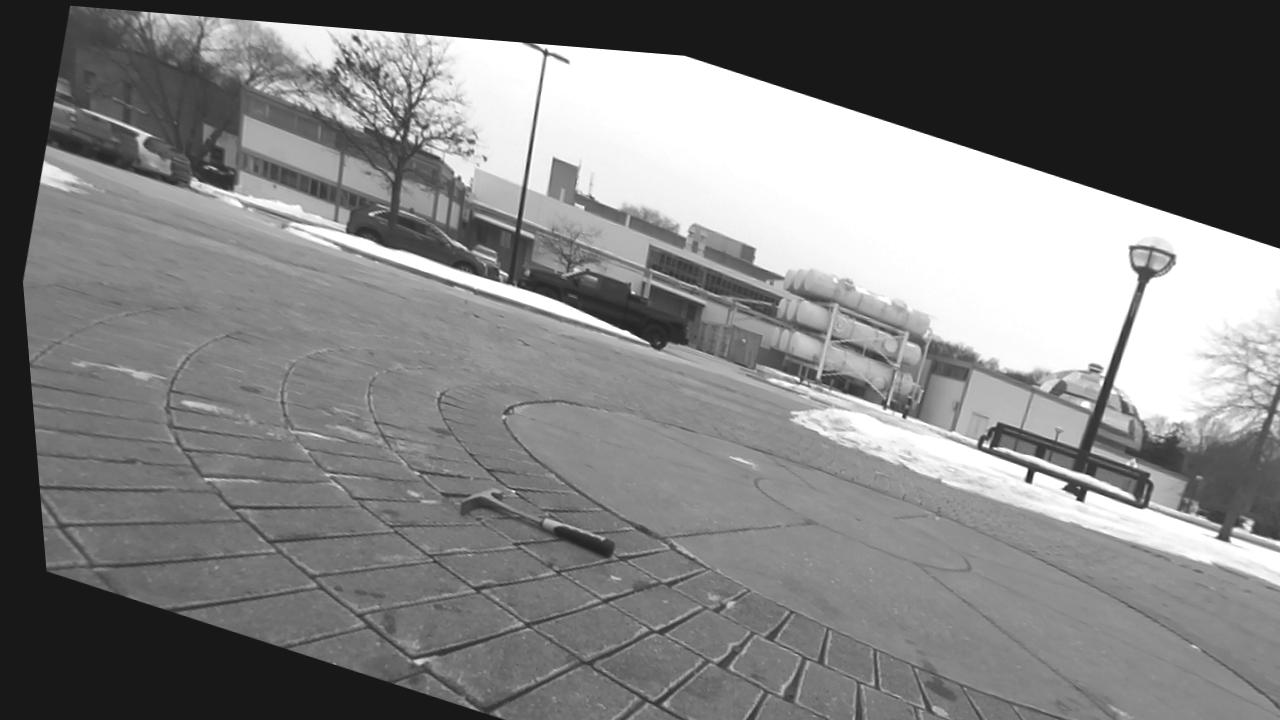pick: (461, 491, 614, 555)
